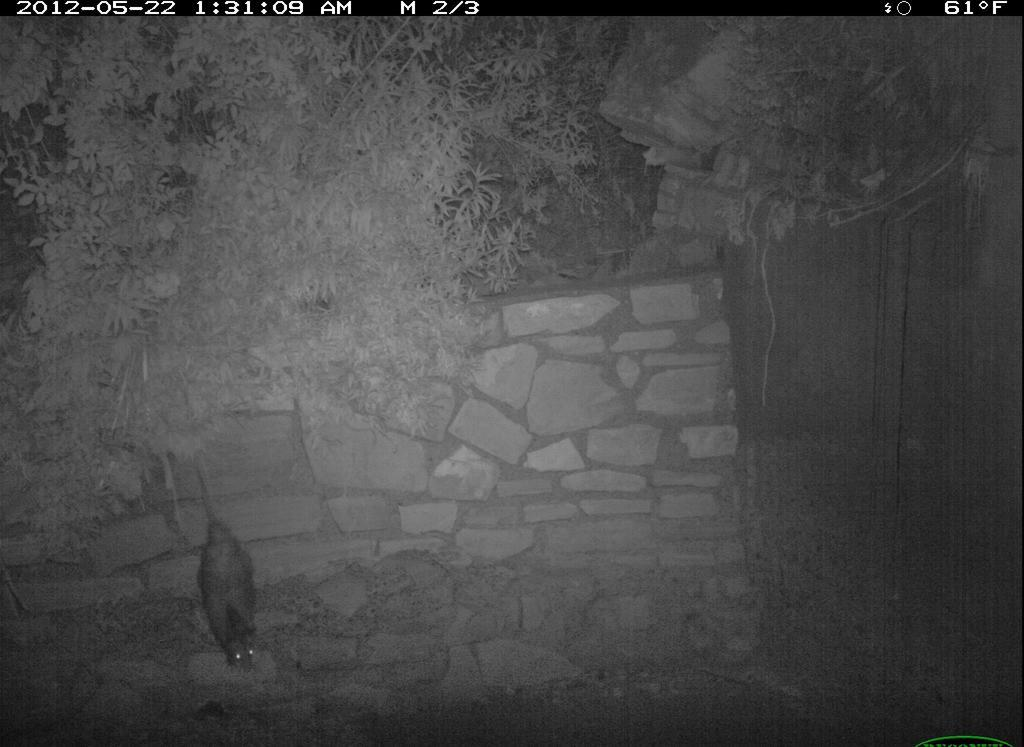opossum: (166, 473, 305, 690)
